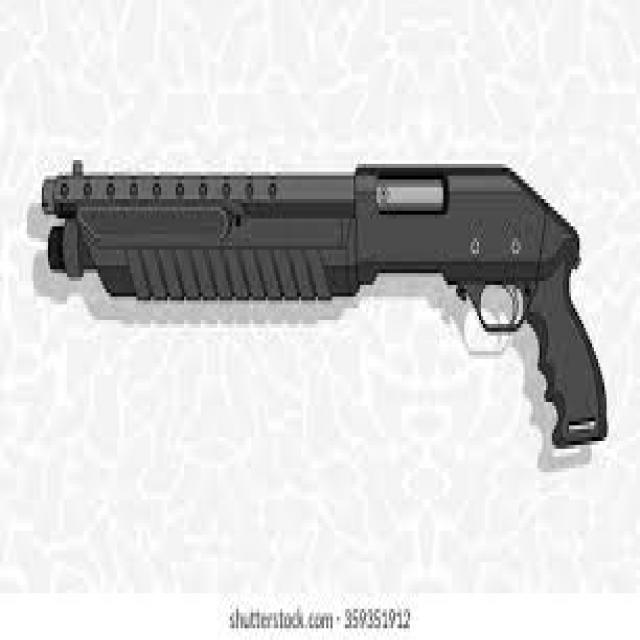long weapon: (21, 110, 622, 490)
